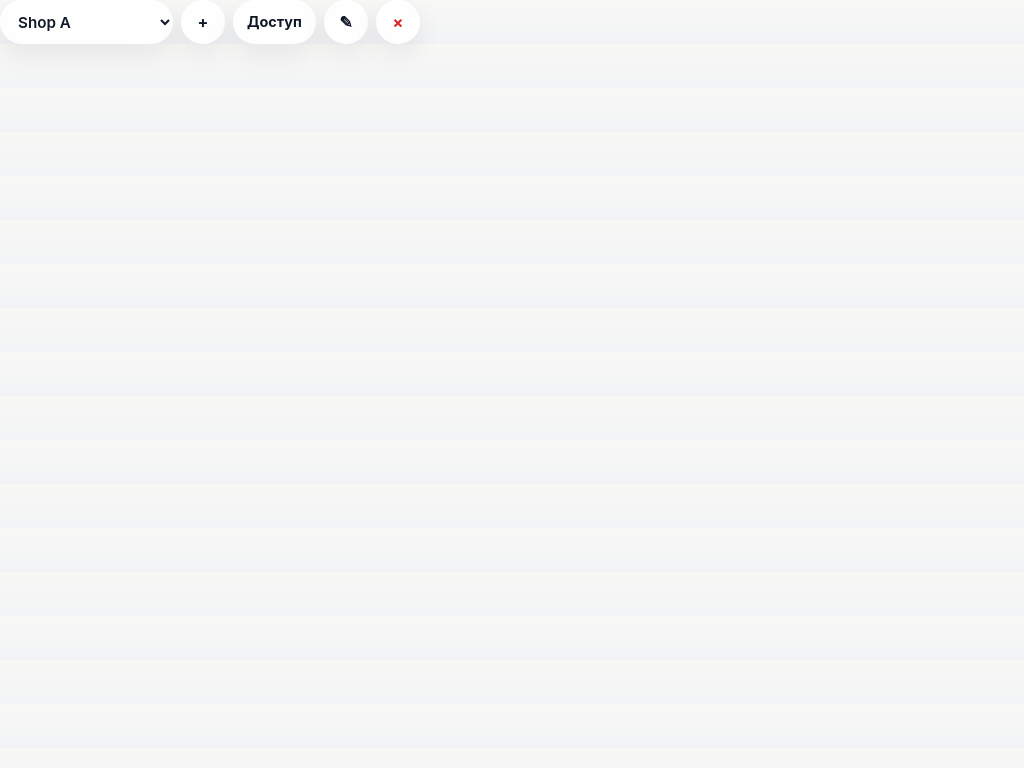
it: WorkspaceSelector sharing panel › opens the panel with an email input and no user-list leak
Click the button with aria-label "Поделиться магазином".
click(274, 22)  # box [233,0,316,44]
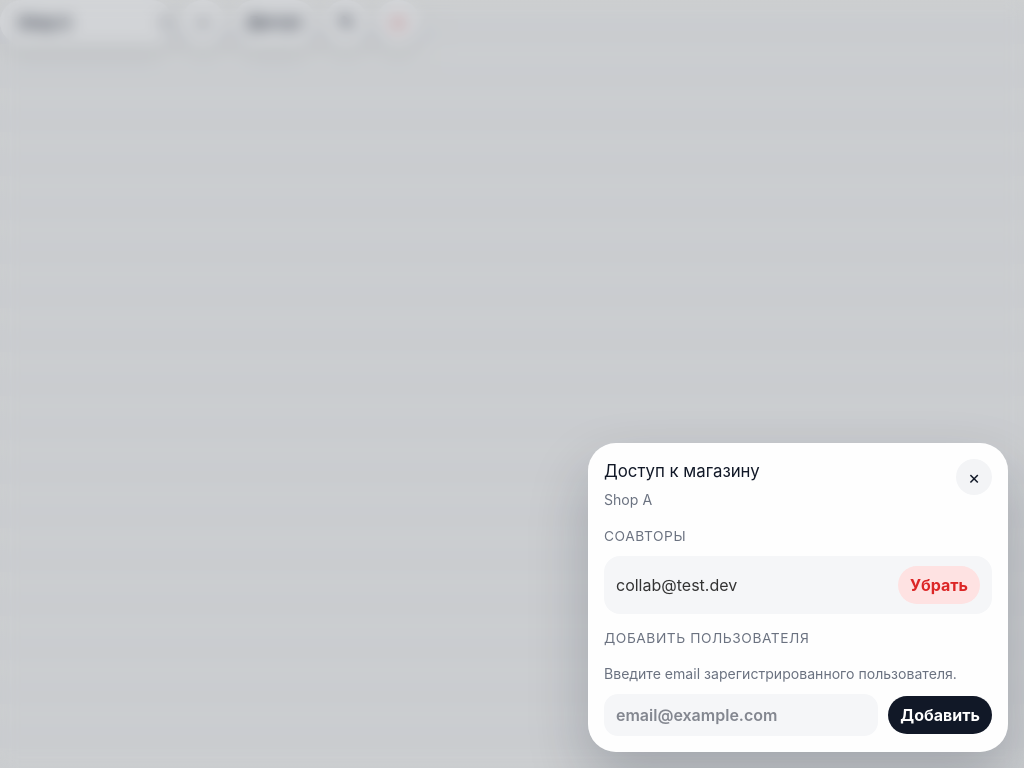
Result: the heading "Доступ к магазину" is shown at [604,459,760,484]
Result: the text "collab@test.dev" is shown at [616,575,737,595]
